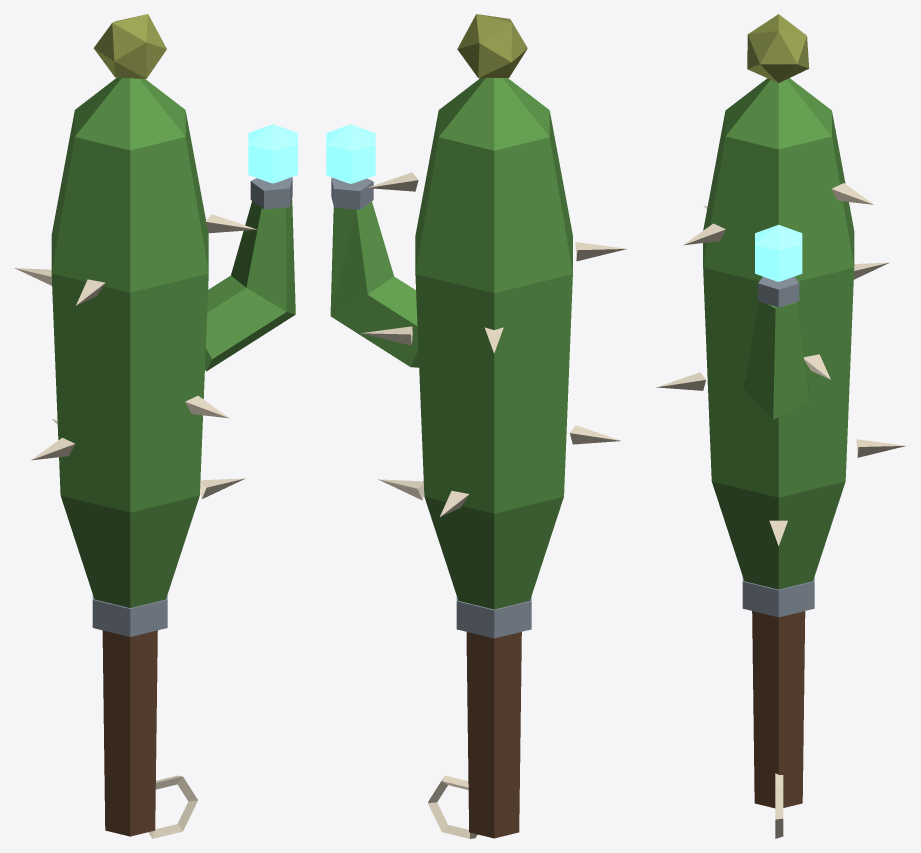
Rendered from Wpn_Melee_CactusClub.fbx.
The picture shows the model from 3 angles, left to right: view 1: azimuth 30°, elevation 25°; view 2: azimuth 150°, elevation 25°; view 3: azimuth 270°, elevation 25°; orthographic projection. The views are drawn at different scales.
Parts seen in each view (by area): view 1: Wpn_Melee_CactusClub_Body, Wpn_Melee_CactusClub_Bulb; view 2: Wpn_Melee_CactusClub_Body, Wpn_Melee_CactusClub_Bulb; view 3: Wpn_Melee_CactusClub_Body, Wpn_Melee_CactusClub_Bulb.
Part boxes in pixels (x1,y1,x2,y2): Wpn_Melee_CactusClub_Body: (14,14,295,838); Wpn_Melee_CactusClub_Bulb: (248,124,297,183); Wpn_Melee_CactusClub_Body: (330,14,626,838); Wpn_Melee_CactusClub_Bulb: (326,124,375,183); Wpn_Melee_CactusClub_Body: (656,14,906,838); Wpn_Melee_CactusClub_Bulb: (755,224,802,281).
Size of the model in its own units: 0.3149 by 0.882 by 0.2529.
